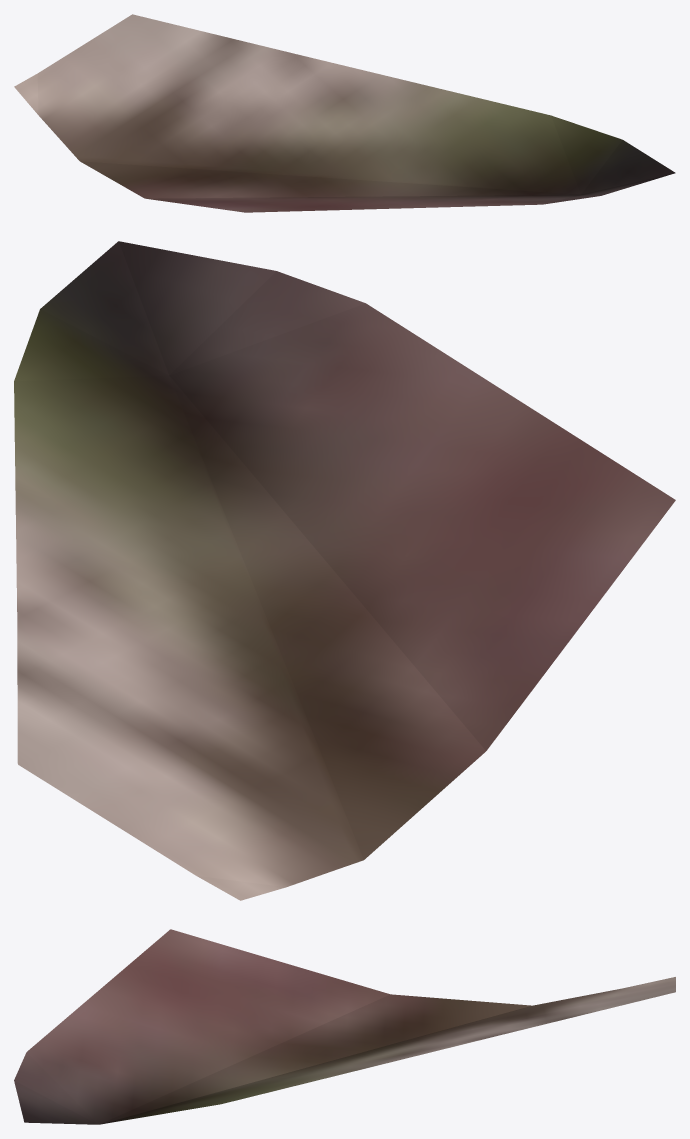
3 views of the same model, one above another, from view 1: azimuth 30°, elevation 25°; view 2: azimuth 150°, elevation 25°; view 3: azimuth 270°, elevation 25° (orthographic). The views are drawn at different scales.
Size of the model in its own units: 0.0793 by 0.0146 by 0.1147.
Materials: 1 (1 with a texture image).
